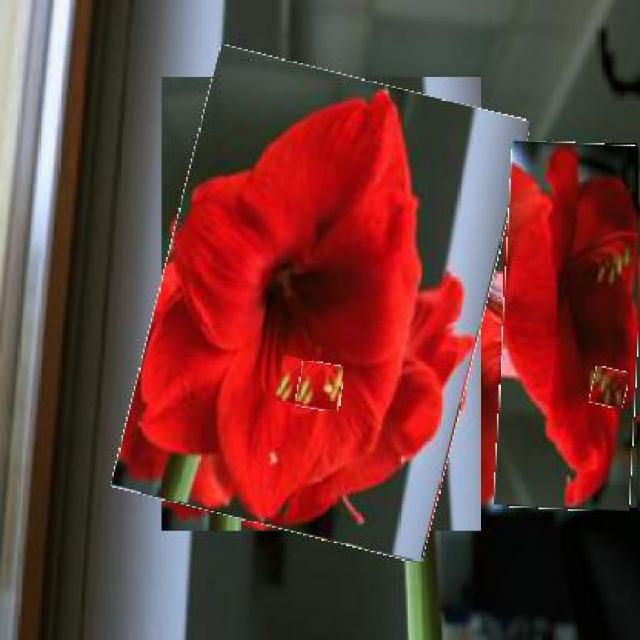Flower: (136, 61, 507, 548), (499, 142, 639, 513), (297, 363, 343, 412), (591, 368, 628, 408)
